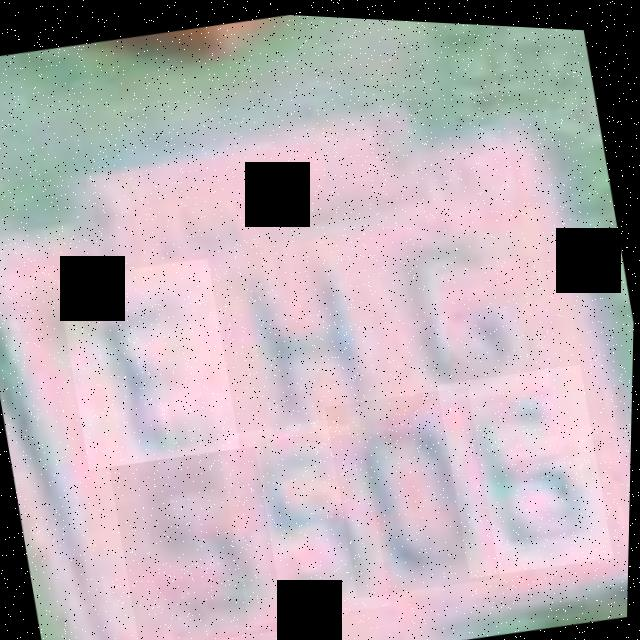0: (323, 376, 506, 600)
5: (215, 406, 397, 629), (108, 437, 291, 640)
6: (436, 352, 619, 578)
B: (55, 250, 246, 475)
